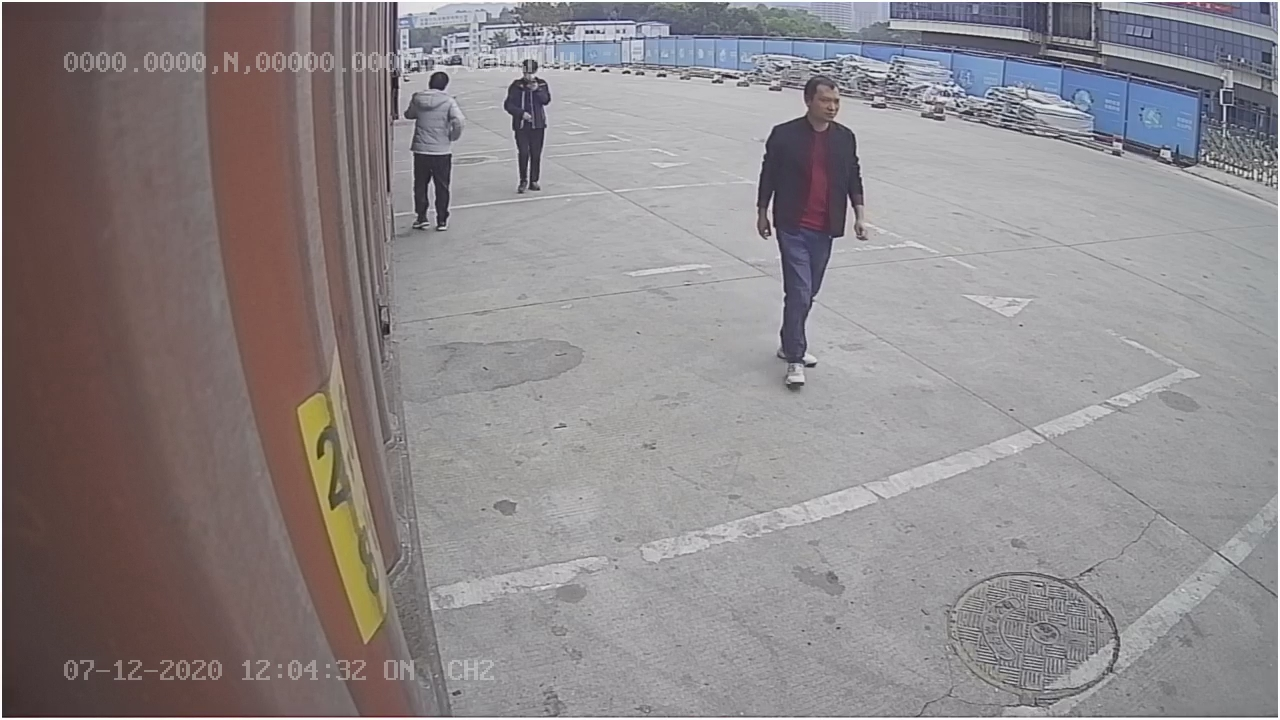person: (753, 73, 870, 390)
